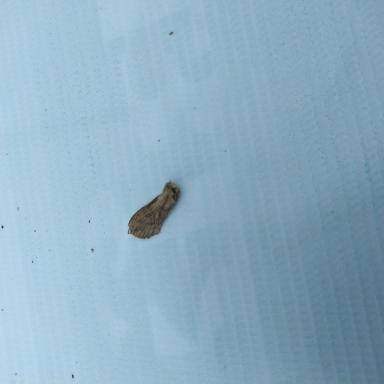pbw: (126, 178, 179, 239)
